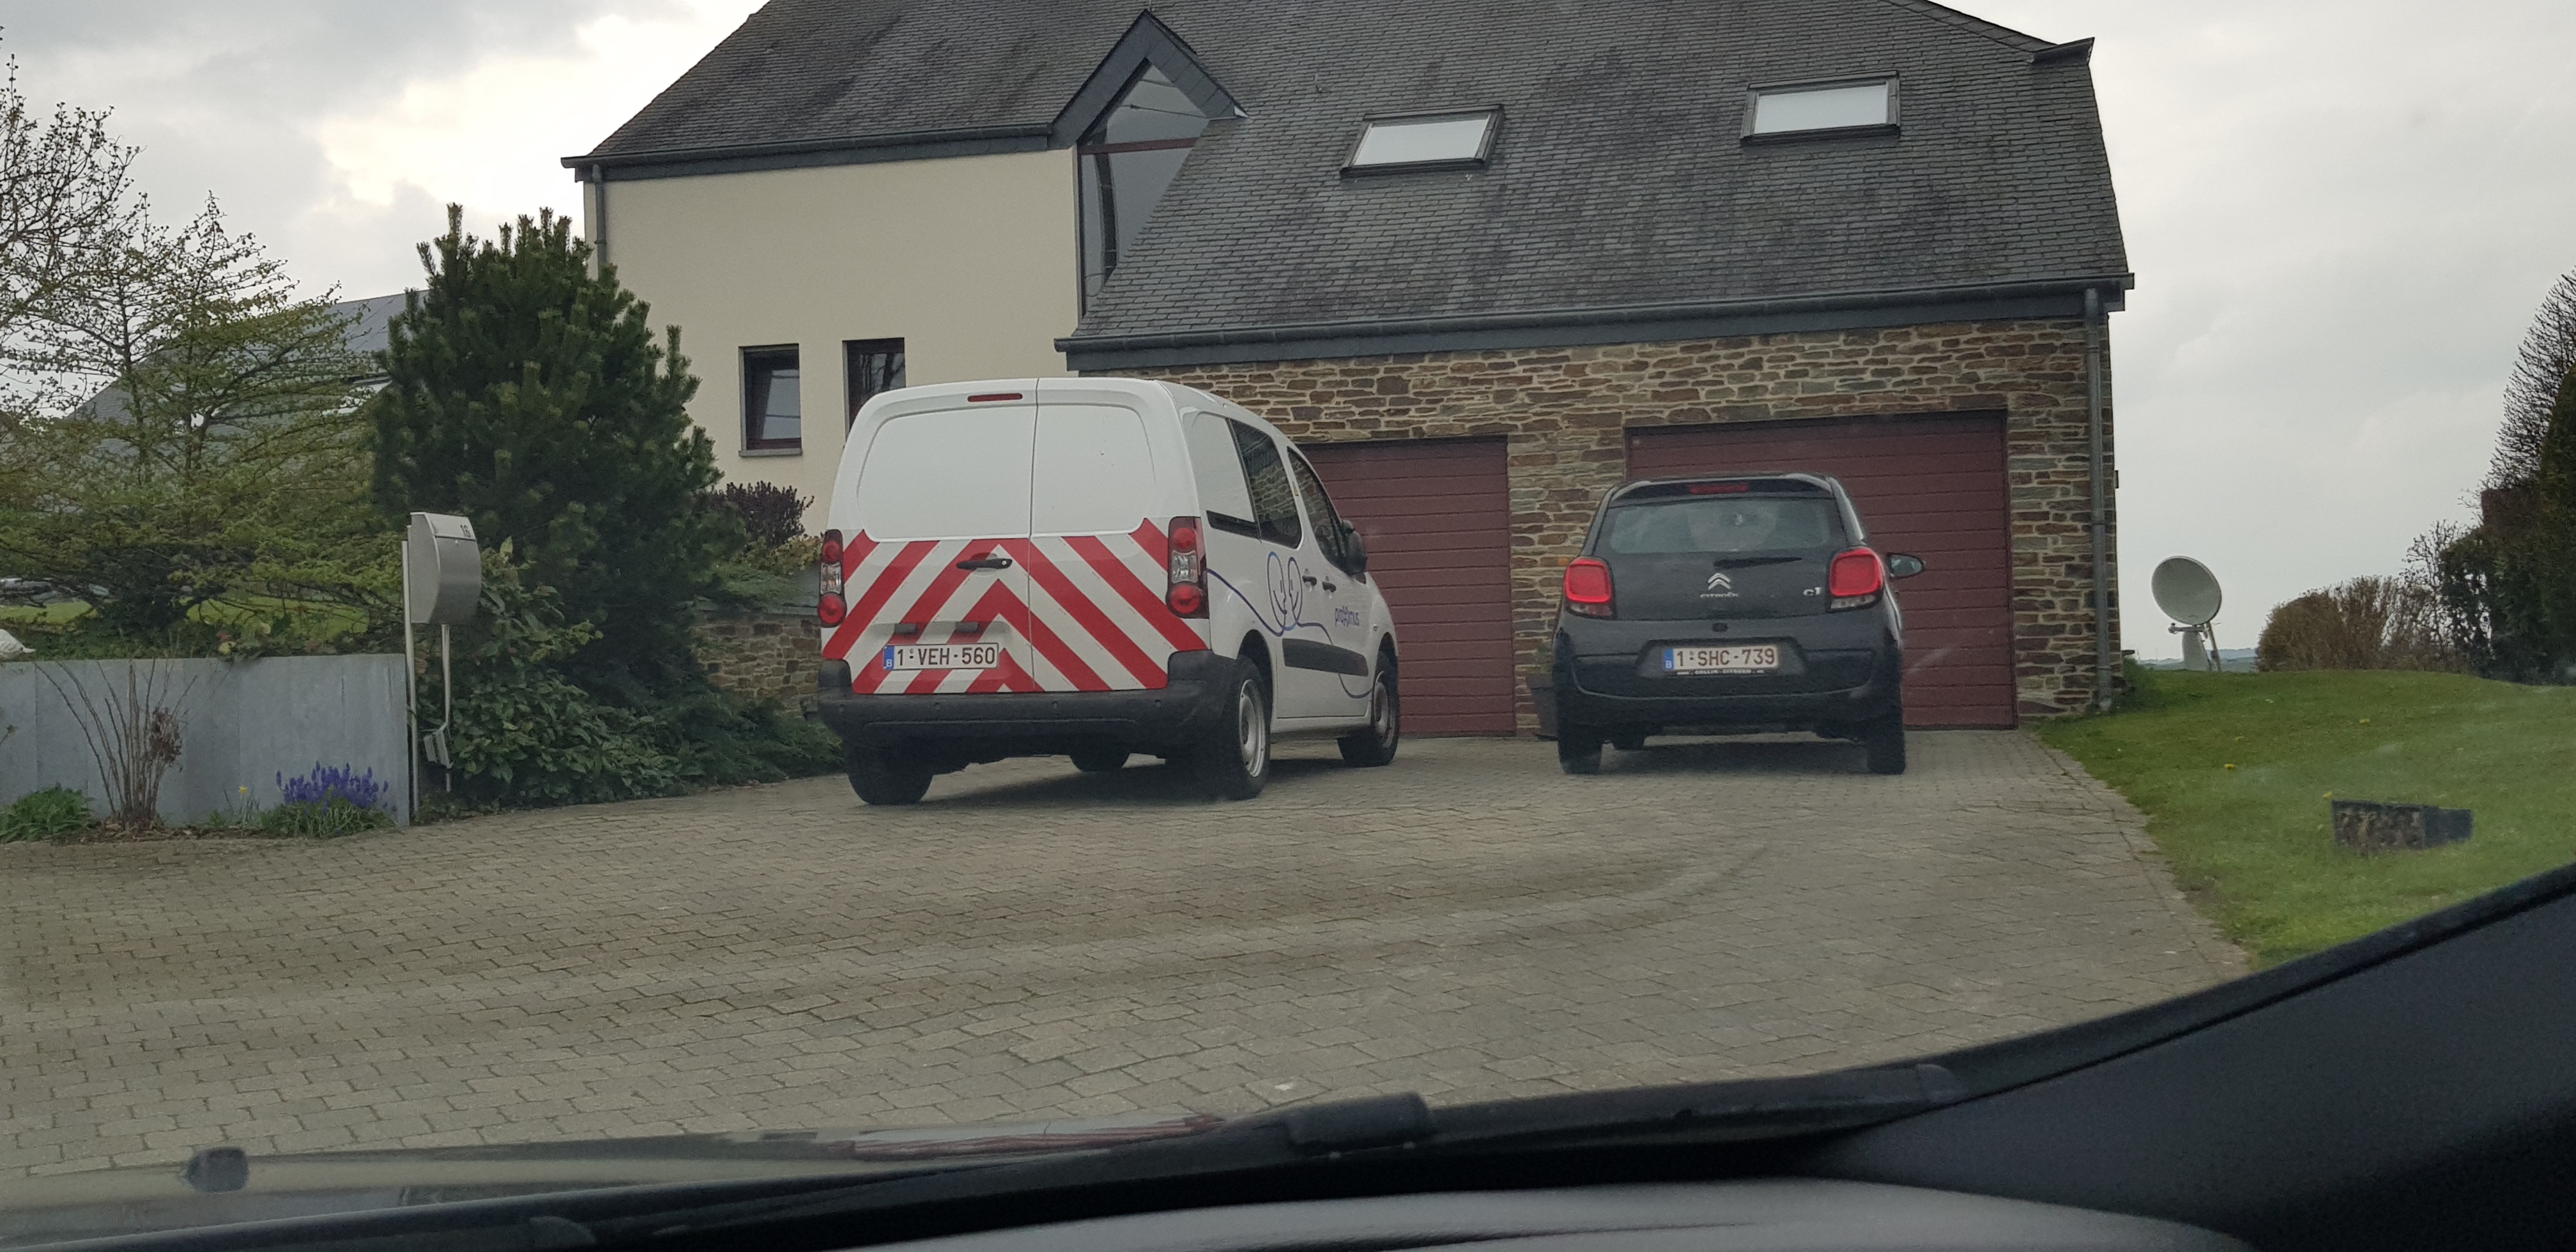licenceplate: (883, 645, 999, 669), (1660, 645, 1777, 667)
